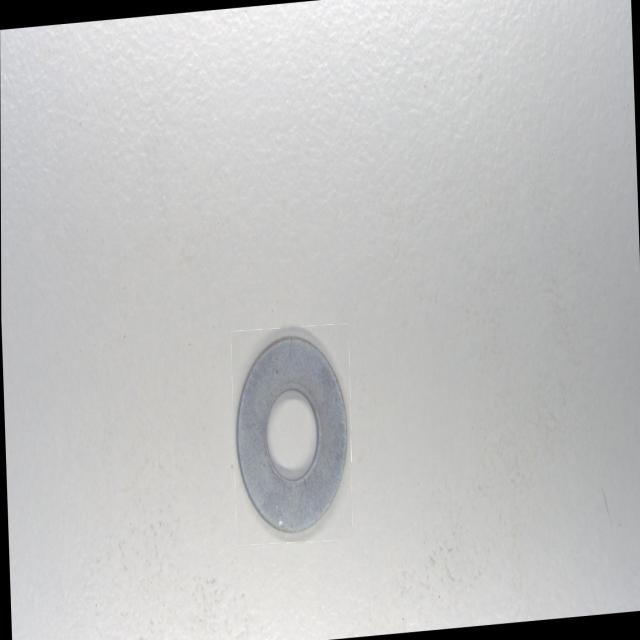washer: (232, 327, 348, 542)
